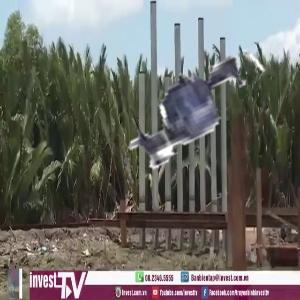drone: (101, 23, 296, 218)
